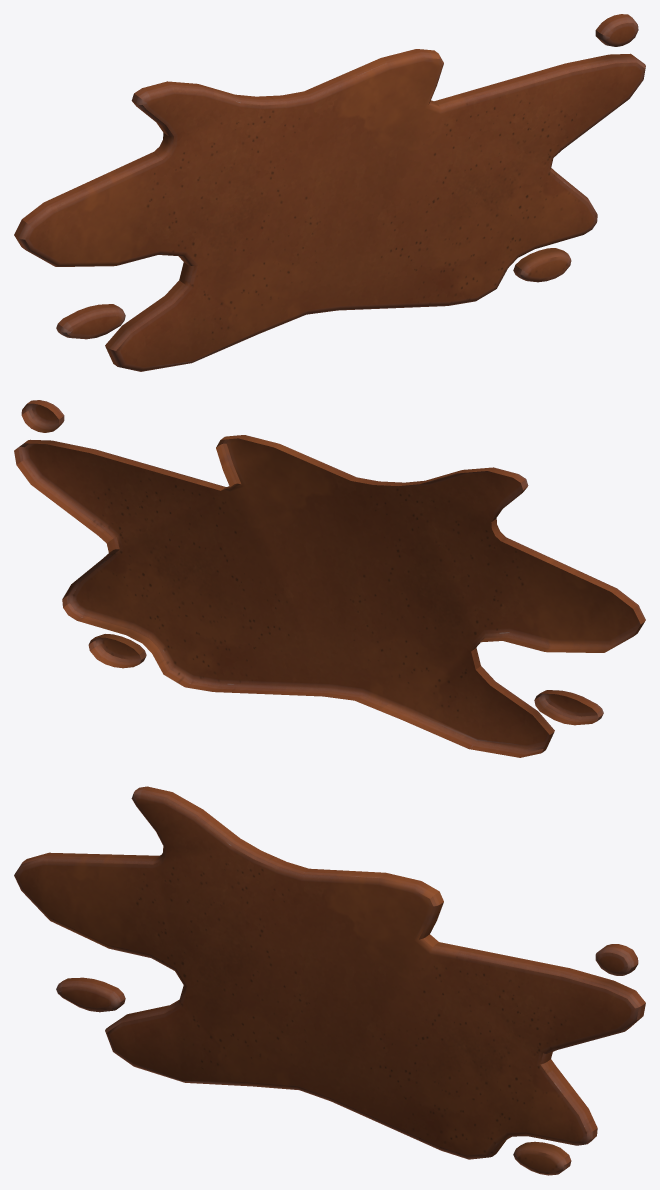
File: kubangan.fbx
3 renders of one model, top to bottom at view 1: azimuth 30°, elevation 25°; view 2: azimuth 150°, elevation 25°; view 3: azimuth 330°, elevation 25°, orthographic.
Parts seen in each view (by area): view 1: Plane; view 2: Plane; view 3: Plane.
Boxes of the visible parts, box(x1,y1,x2,y2) form: Plane: box(14, 14, 645, 371); Plane: box(14, 400, 645, 757); Plane: box(14, 786, 645, 1175).
Bounding box in the file's own units: 1378 × 609 × 30.
1 material, 1 textured.
